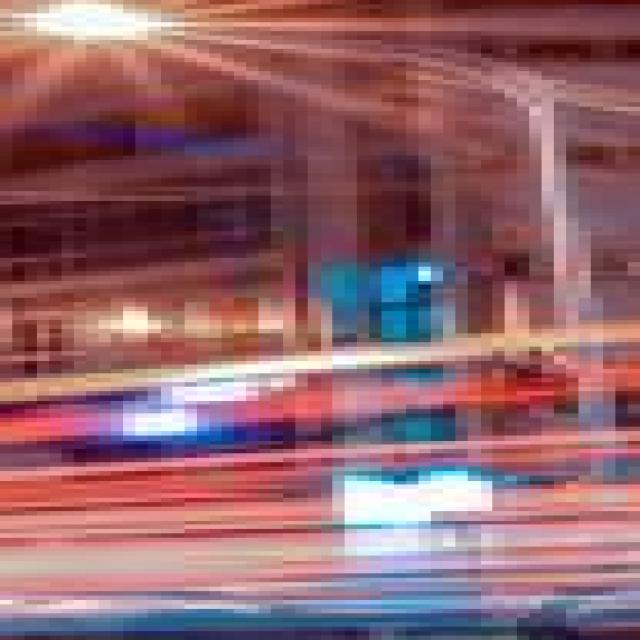street light: (12, 4, 640, 640)
